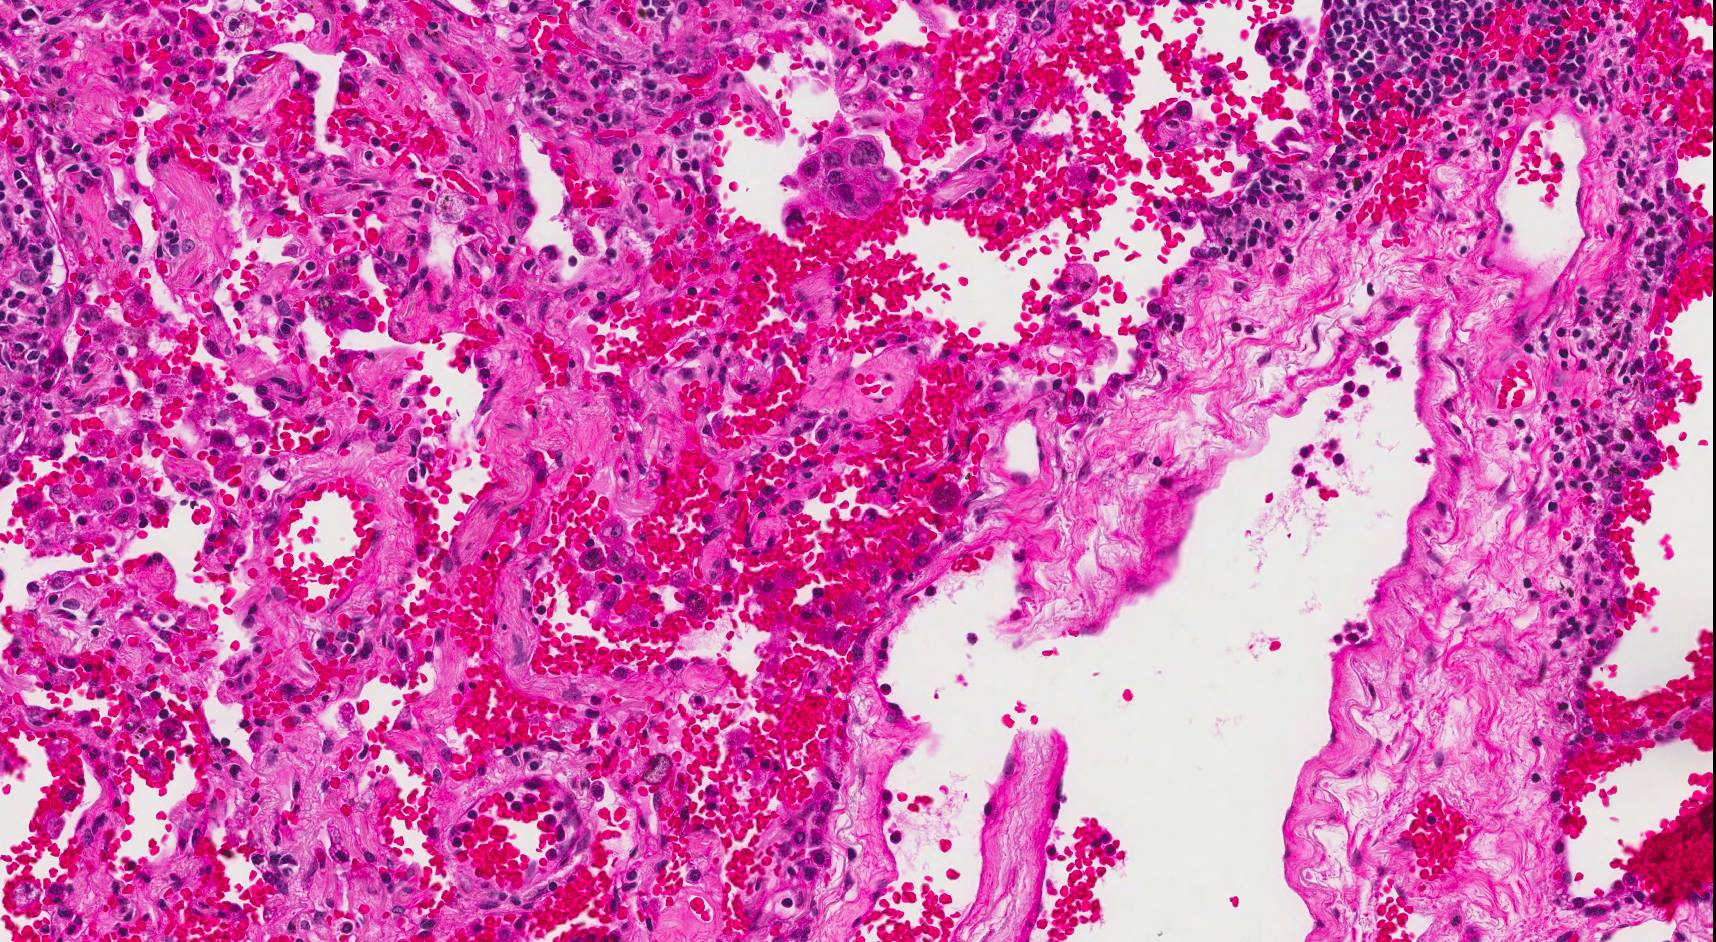stas: (797, 136, 899, 217)
